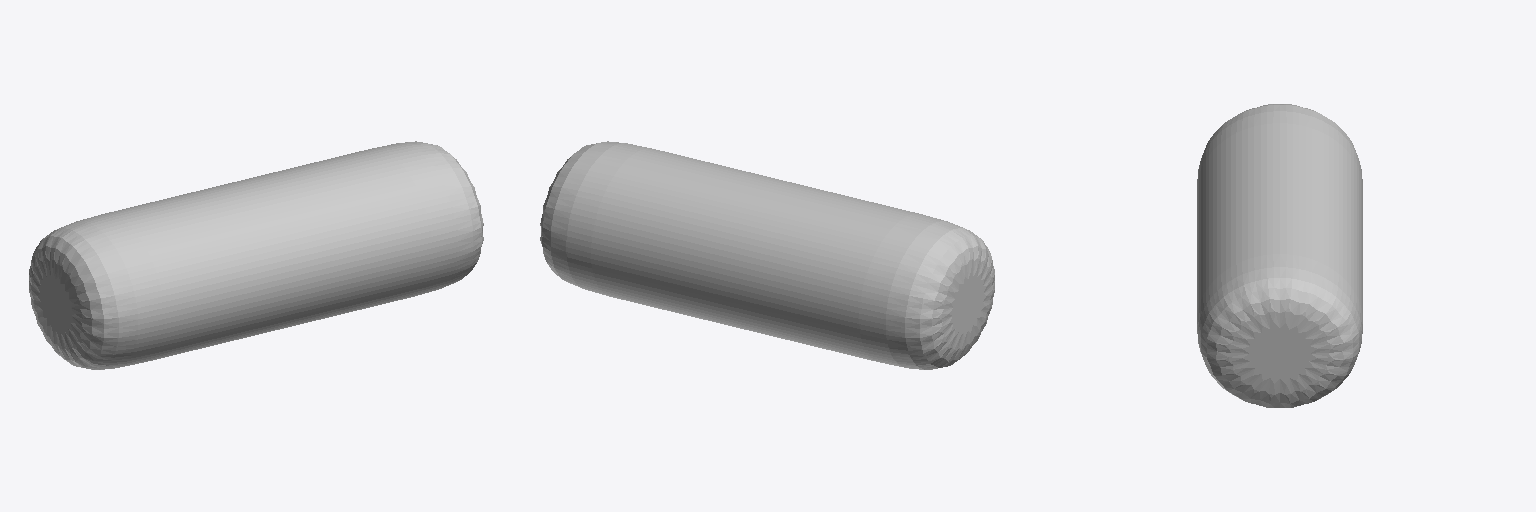
The model's file is rlarm.obj.
3 views of the same model, side by side, from view 1: azimuth 30°, elevation 25°; view 2: azimuth 150°, elevation 25°; view 3: azimuth 270°, elevation 25° (orthographic).
Parts seen in each view (by area): view 1: pCylinder4 group1; view 2: pCylinder4 group1; view 3: pCylinder4 group1.
Boxes of the visible parts, box(x1,y1,x2,y2) form: pCylinder4 group1: box(29, 141, 483, 369); pCylinder4 group1: box(540, 141, 994, 369); pCylinder4 group1: box(1197, 104, 1362, 407).
Bounding box in the file's own units: 1.23 × 0.4004 × 0.4444.